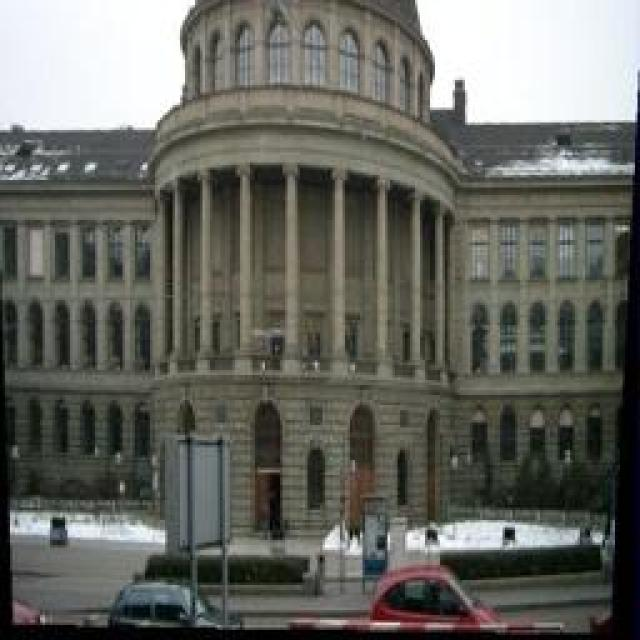building: (0, 0, 635, 560)
